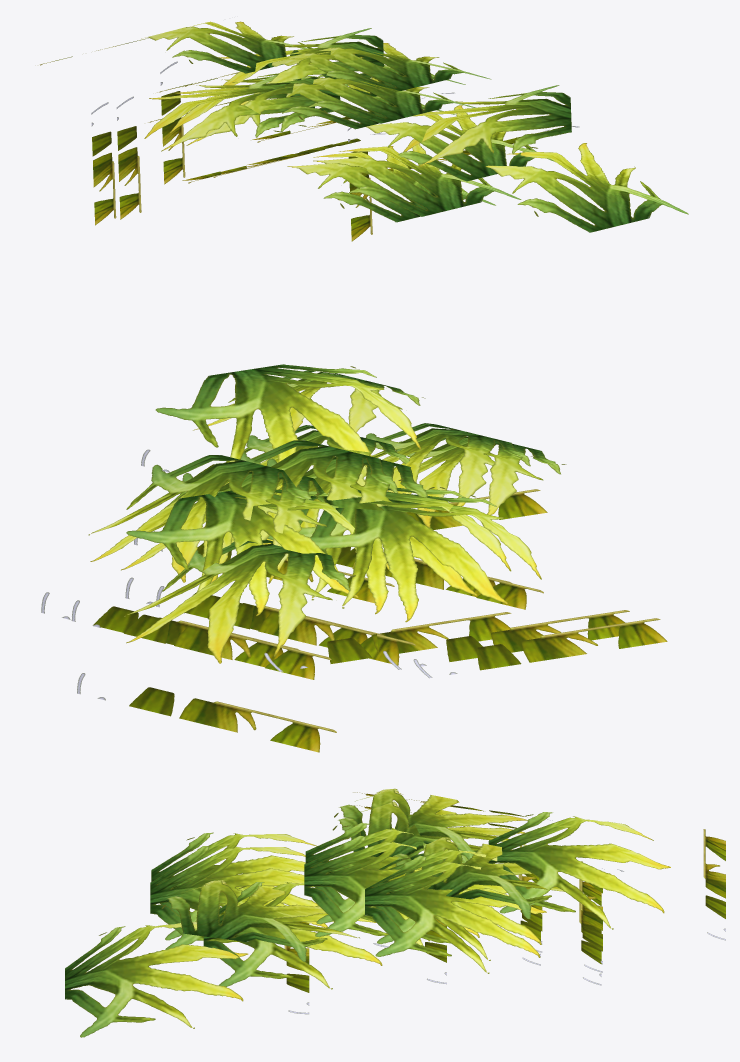
File: grass_0021.FBX
The picture shows the model from 3 angles, top to bottom: view 1: azimuth 30°, elevation 25°; view 2: azimuth 150°, elevation 25°; view 3: azimuth 270°, elevation 25°; orthographic projection. The views are drawn at different scales.
Visible parts, largest first — view 1: Object231; view 2: Object231; view 3: Object231.
Part boxes in pixels (x1,y1,x2,y2): Object231: (40, 21, 688, 241); Object231: (41, 364, 667, 752); Object231: (65, 788, 725, 1037).
Size of the model in its own units: 142 by 23.44 by 167.
